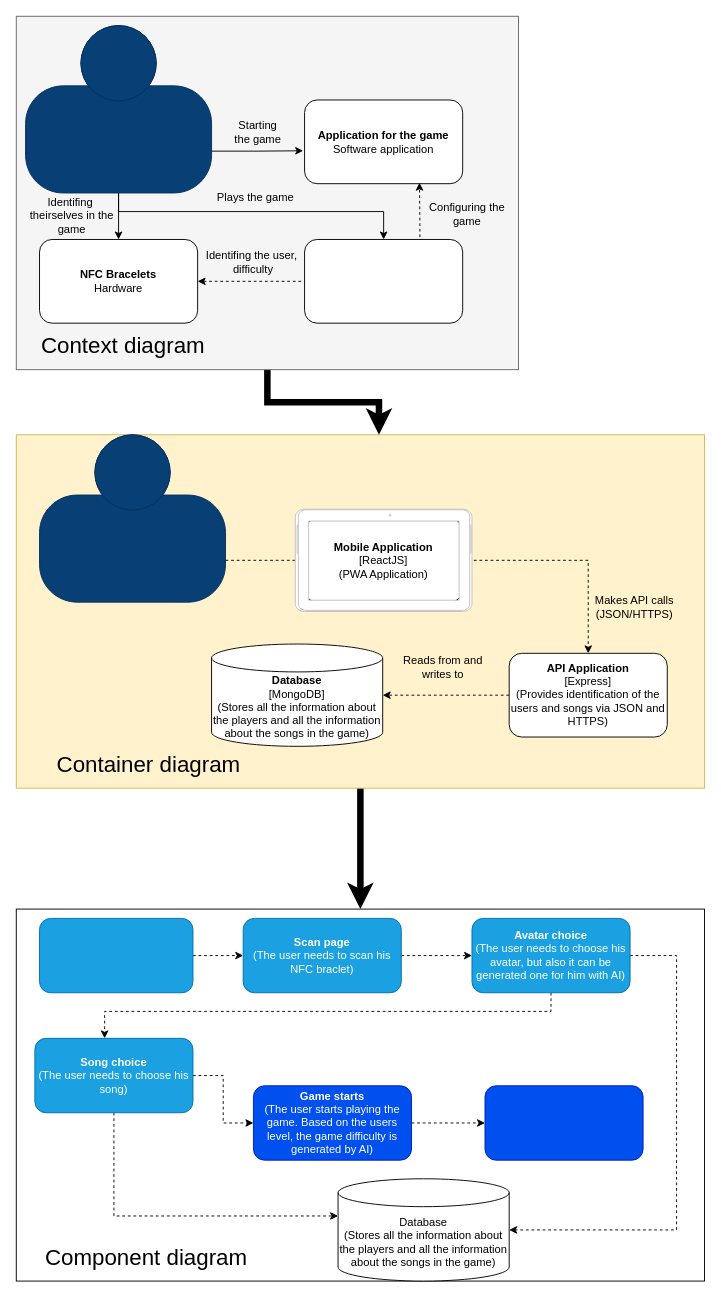
This 721x1297 diagram has some shape labels left out. Here are the shapes that lost their labels. From the top down, the centre of each, then its label:
the point at 118,109: Student [User] The student who plays on Schoolyard 14.
the point at 383,281: The game itself Software and Hardware
the point at 132,518: Student Student [User] The students who play on Schoolyard 14.
the point at 116,955: Home page Start page
the point at 563,1122: Leaderboard (The game is over and shows who is the winner)
